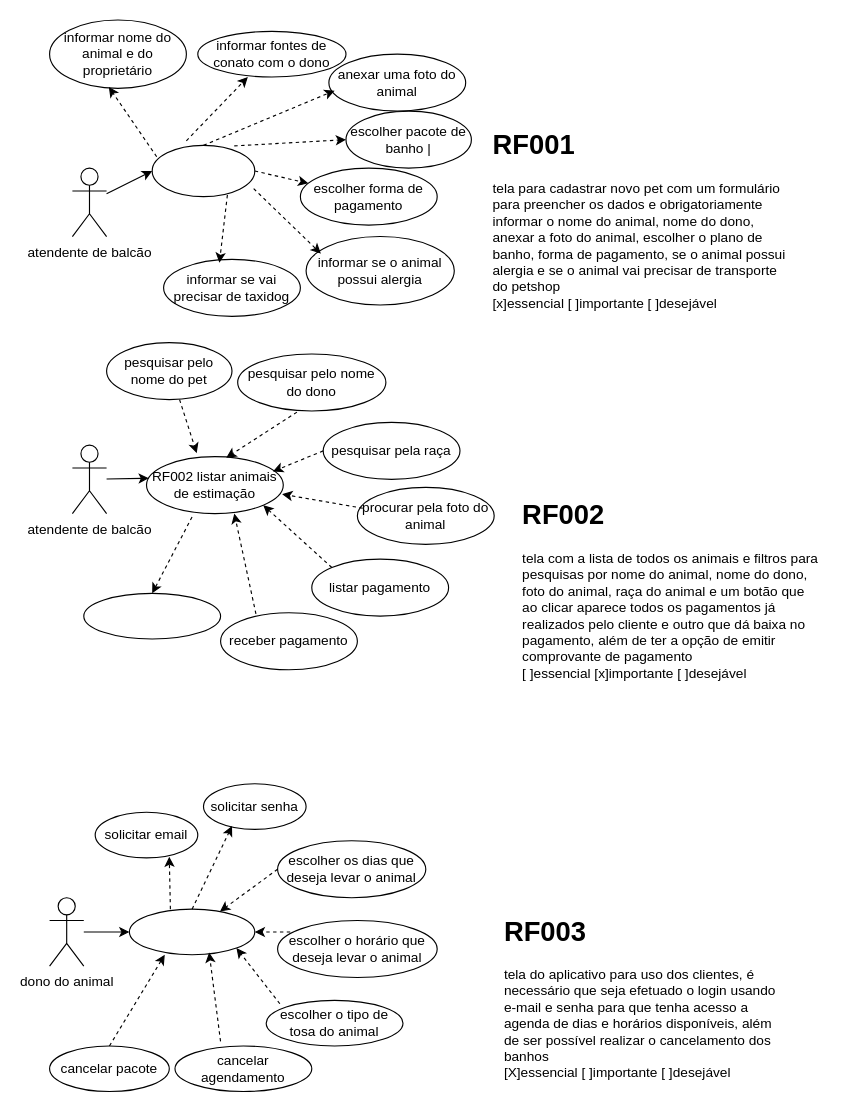
Some shapes in this 844 by 1112 pixel diagram are drawn without their labels. The box of each missing label's shape, as (x1, y1, x2, y2) in pixels:
emitir comprovante de pagamento: (83, 592, 221, 639)
RF001 cadastrar novo pet: (151, 144, 255, 197)
RF003 agendamento: (128, 908, 255, 955)
